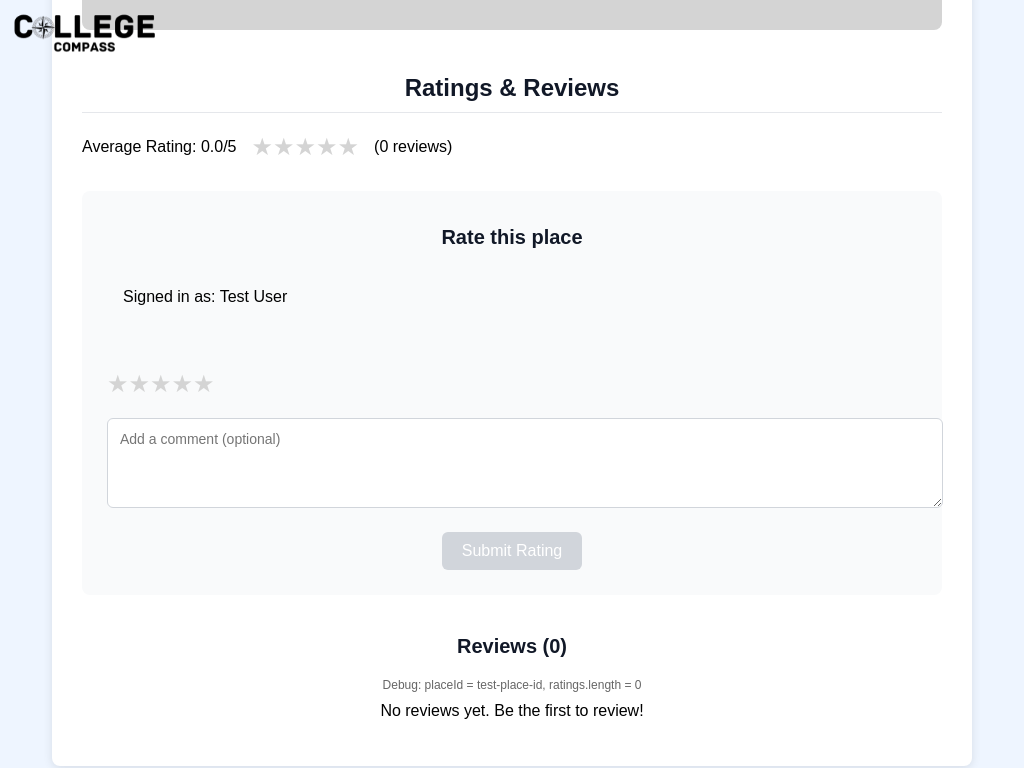
Test: PlaceDetail Component - Simplified Tests › Rating System › allows user to click stars
This screenshot has width=1024, height=768.
(page scrolled)
# Click on a star (find interactive ones)
Click the 8th text "★".
click(161, 384)  # box [150,370,172,398]
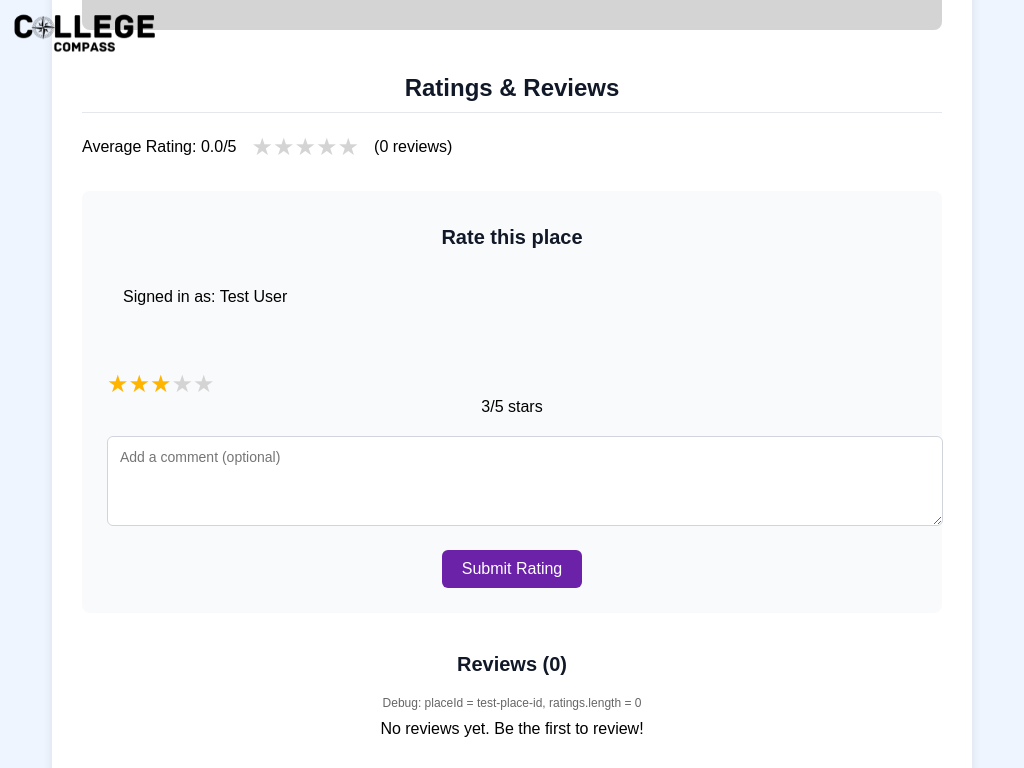
Check: the text "3/5 stars" is shown, box [481,398,543,415]
